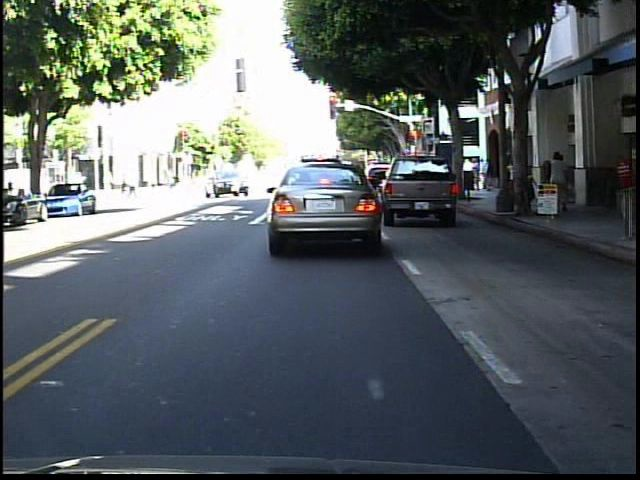person: (547, 150, 571, 209), (505, 150, 522, 211), (560, 152, 574, 206)
